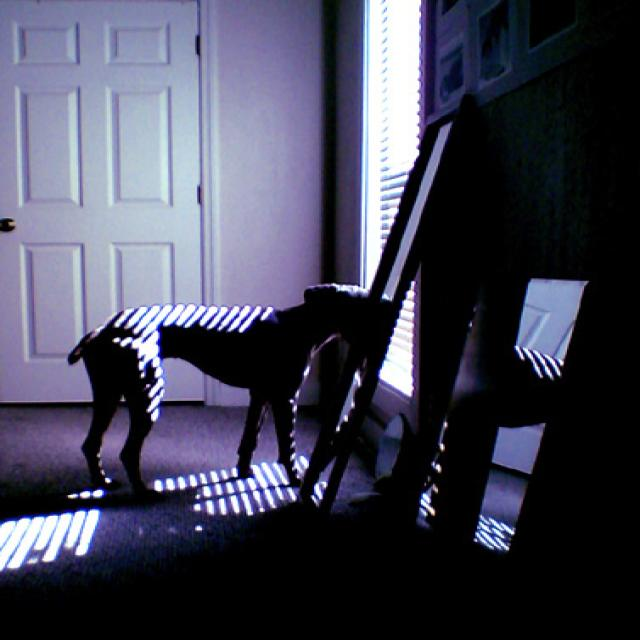Dog: (54, 252, 420, 495)
